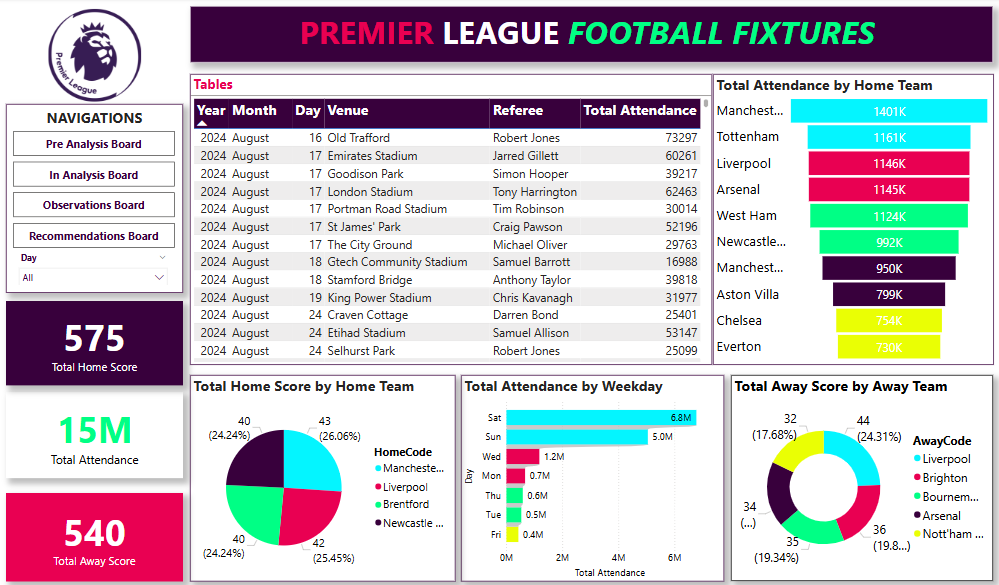

The page's visual inventory and layout, read from the dashboard file:
{"tool":"powerbi","page":{"name":"Main Dashboard","canvas":[1700,1000],"ordinal":0},"visuals":[{"type":"barChart","title":"Total Attendance by Weekday","fields":{"Category":["fixtures.Day"],"Y":["fixtures.Total Attendance"]},"box":[785.2,638.9,446.3,350],"z":0},{"type":"funnel","title":"Total Attendance by Home Team","fields":{"Category":["fixtures.Home","fixtures.Venue"],"Y":["fixtures.Total Attendance"]},"box":[1211.1,129.6,475.9,492.6],"z":1000},{"type":"donutChart","title":"Total Away Score by Away Team","fields":{"Category":["fixtures.Away"],"Y":["fixtures.Total Away Score"]},"box":[1242.4,639,444.1,349.2],"z":2000},{"type":"pieChart","title":"Total Home Score by Home Team","fields":{"Category":["fixtures.Home"],"Y":["fixtures.Total Home Score"]},"box":[325.4,639.8,449.7,349.1],"z":3000},{"type":"card","fields":{"Values":["fixtures.Total Attendance"]},"box":[12.8,669,299.8,146.2],"z":4000},{"type":"card","fields":{"Values":["fixtures.Total Away Score"]},"box":[12.8,828.1,299.8,160.9],"z":5000},{"type":"card","fields":{"Values":["fixtures.Total Home Score"]},"box":[13,513,300,142.6],"z":6000},{"type":"textbox","box":[13,179.6,300,320.4],"z":7000},{"type":"textbox","box":[325.9,13,1361.1,96.3],"z":8000},{"type":"image","box":[13,13,300,166.7],"z":9000},{"type":"slicer","fields":{"Values":["fixtures.Day"]},"box":[25.9,425.9,272.2,61.1],"z":10000},{"type":"tableEx","title":"Tables","fields":{"Values":["fixtures.Date.Variation.Date Hierarchy.Year","fixtures.Date.Variation.Date Hierarchy.Month","fixtures.Date.Variation.Date Hierarchy.Day","fixtures.Venue","fixtures.Referee","fixtures.Total Attendance"]},"box":[325.9,129.6,885.2,492.6],"z":11000},{"type":"pageNavigator","box":[25.9,225.9,274.1,200],"z":12000}]}

Visuals, with their boxes in screenshot pixels (x1, y1, x2, y2), scaled from the page's 1700x1000 canvas onto the 999x585 screenshot:
"Total Attendance by Weekday" barChart: 461,374,724,579
"Total Attendance by Home Team" funnel: 712,76,991,364
"Total Away Score by Away Team" donutChart: 730,374,991,578
"Total Home Score by Home Team" pieChart: 191,374,455,579
card - fixtures.Total Attendance: 8,391,184,477
card - fixtures.Total Away Score: 8,484,184,579
card - fixtures.Total Home Score: 8,300,184,384
textbox: 8,105,184,292
textbox: 192,8,991,64
image: 8,8,184,105
slicer - fixtures.Day: 15,249,175,285
"Tables" tableEx: 192,76,712,364
pageNavigator: 15,132,176,249
